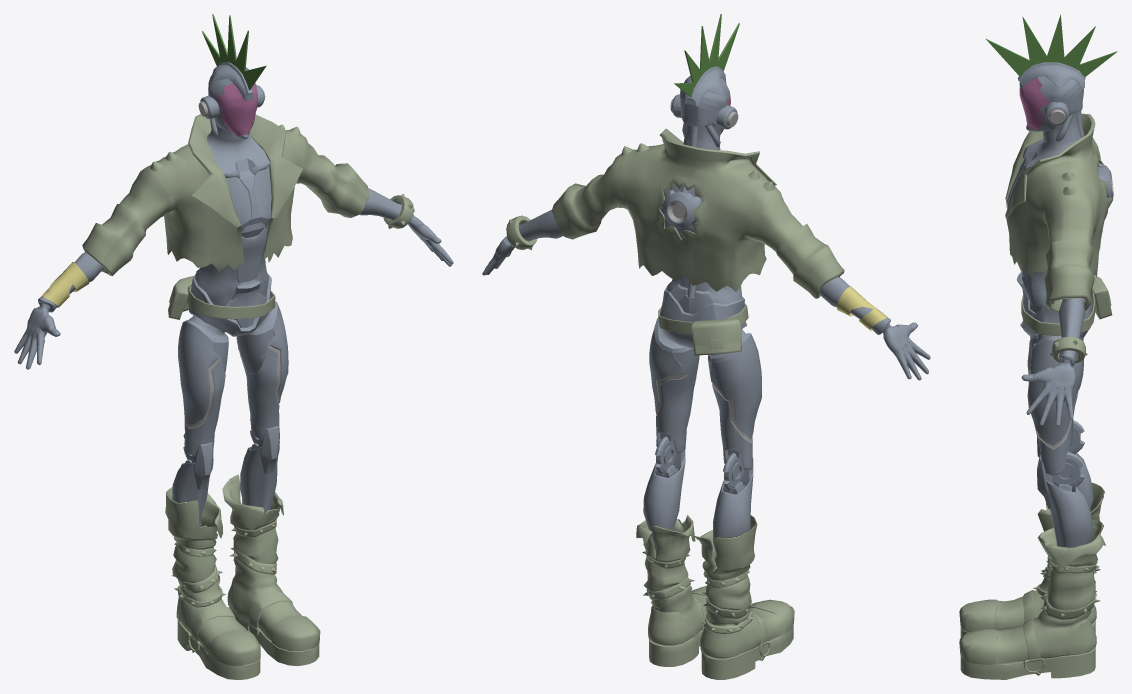
Rendered from PunkBotUV.fbx.
3 views of the same model, side by side, from view 1: azimuth 30°, elevation 25°; view 2: azimuth 150°, elevation 25°; view 3: azimuth 270°, elevation 25° (orthographic). The views are drawn at different scales.
Parts seen in each view (by area): view 1: SkinPunkBot; view 2: SkinPunkBot; view 3: SkinPunkBot.
Boxes of the visible parts, x1=… form: SkinPunkBot: x1=14, y1=14, x2=453, y2=679; SkinPunkBot: x1=482, y1=14, x2=930, y2=679; SkinPunkBot: x1=959, y1=14, x2=1117, y2=679.
Bounding box in the file's own units: 149 × 208 × 46.51.
